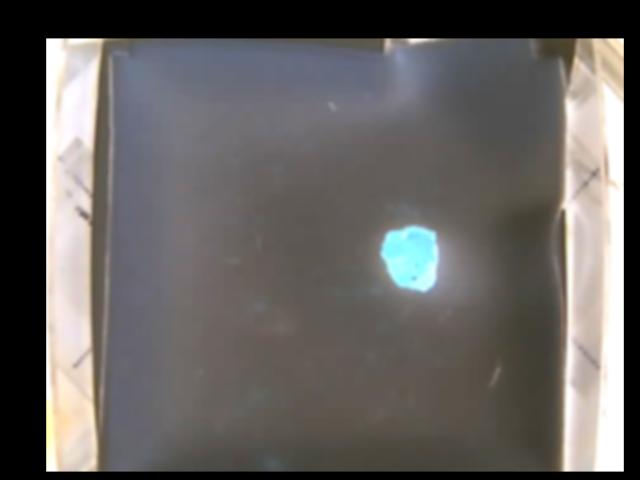Brisk: (381, 225, 439, 293)
